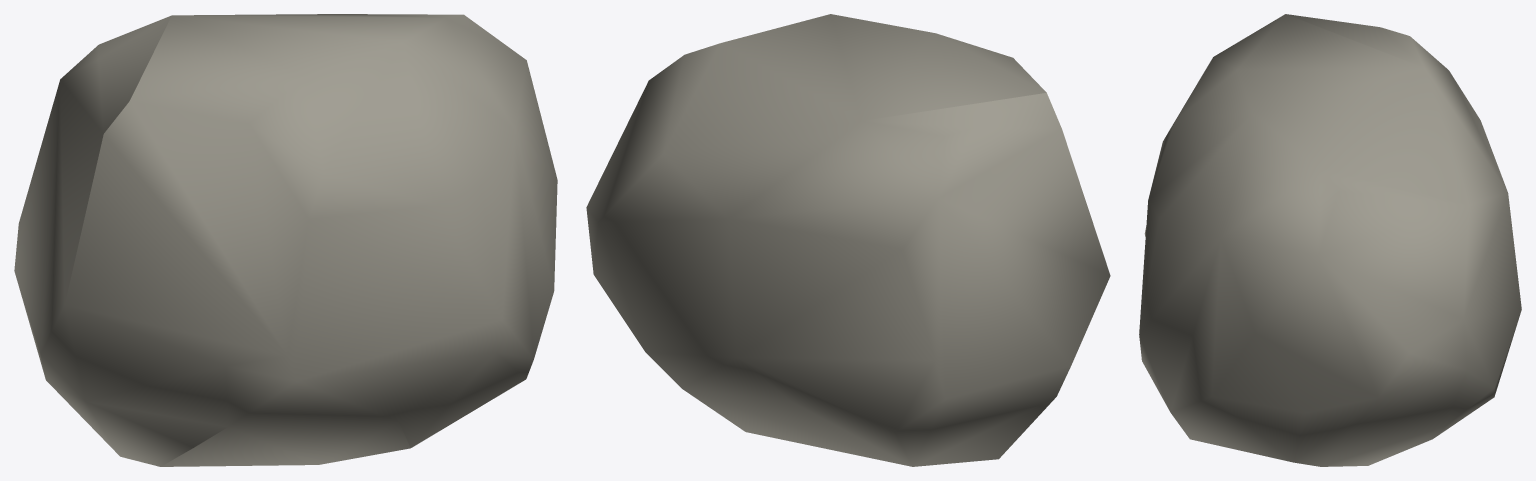
Rendered from Environment_Rock_3.medium.gltf.
3 views of the same model, side by side, from view 1: azimuth 30°, elevation 25°; view 2: azimuth 150°, elevation 25°; view 3: azimuth 270°, elevation 25° (orthographic). The views are drawn at different scales.
Parts seen in each view (by area): view 1: Environment_Rock_3; view 2: Environment_Rock_3; view 3: Environment_Rock_3.
Boxes of the visible parts, bbox=[...] form: Environment_Rock_3: bbox=[14, 14, 557, 466]; Environment_Rock_3: bbox=[586, 14, 1110, 466]; Environment_Rock_3: bbox=[1139, 14, 1521, 466].
Size of the model in its own units: 0.7663 by 0.6077 by 0.5839.
1 material, 1 textured.
